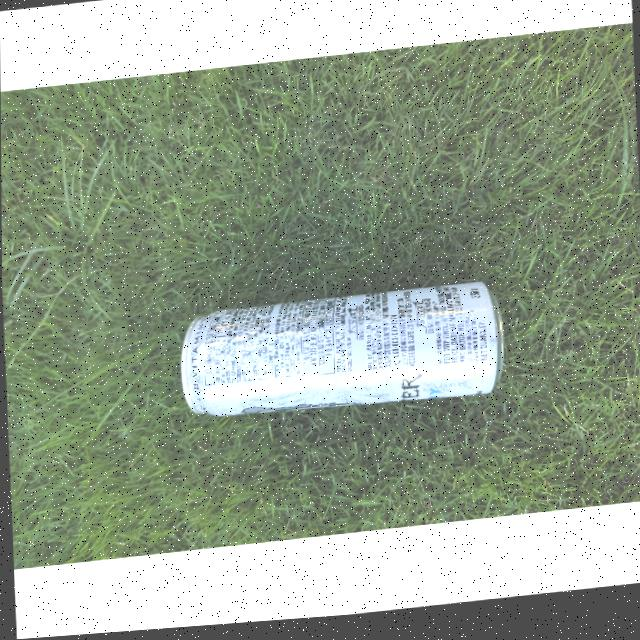White Monster: (177, 282, 508, 431)
